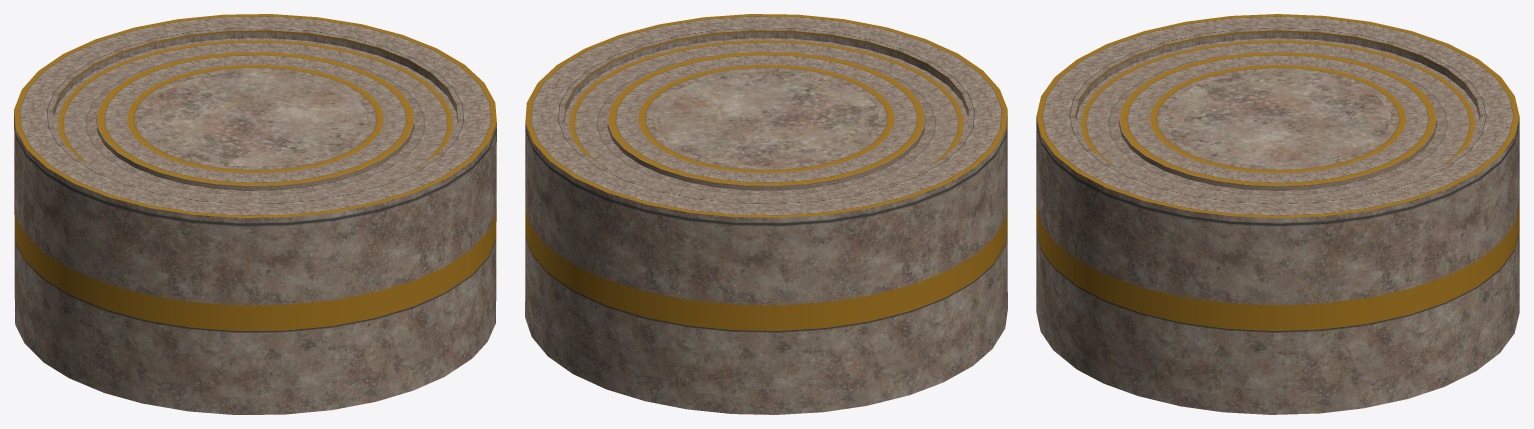
Rendered from SM_Circular_Floor.gltf.
3 views of the same model, side by side, from view 1: azimuth 30°, elevation 25°; view 2: azimuth 150°, elevation 25°; view 3: azimuth 270°, elevation 25° (orthographic).
Visible parts, largest first — view 1: SM_WetHallProps_JFG_Circular_Floor_M_Trim_JFG_Rocks_Wet_0; view 2: SM_WetHallProps_JFG_Circular_Floor_M_Trim_JFG_Rocks_Wet_0; view 3: SM_WetHallProps_JFG_Circular_Floor_M_Trim_JFG_Rocks_Wet_0.
Part boxes in pixels (<box>): SM_WetHallProps_JFG_Circular_Floor_M_Trim_JFG_Rocks_Wet_0: <box>14,14,496,414</box>; SM_WetHallProps_JFG_Circular_Floor_M_Trim_JFG_Rocks_Wet_0: <box>525,14,1007,414</box>; SM_WetHallProps_JFG_Circular_Floor_M_Trim_JFG_Rocks_Wet_0: <box>1036,14,1519,414</box>.
Bounding box in the file's own units: 20 × 9 × 20.
1 material, 1 textured.
